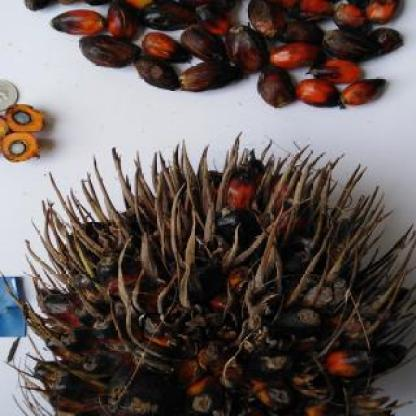Unripe: (0, 183, 416, 416)
